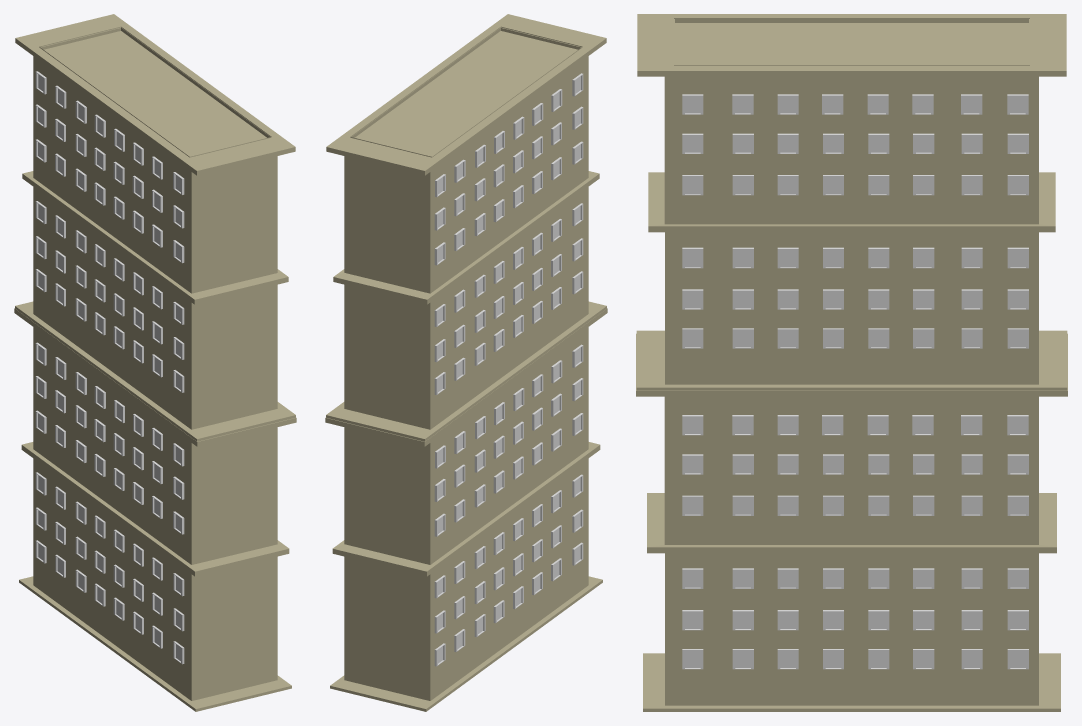
File: Apartment Seperated.fbx
The picture shows the model from 3 angles, left to right: view 1: azimuth 30°, elevation 25°; view 2: azimuth 150°, elevation 25°; view 3: azimuth 270°, elevation 25°; orthographic projection. The views are drawn at different scales.
Visible parts, largest first — view 1: Cube 2, Cube, Ledges 2, Ledges, Window Set 7, Window Set 3, Window Set 6, Window Set 4; view 2: Cube 2, Cube, Ledges 2, Ledges, Window Set 3, Window Set 7, Window Set 4, Window Set 6; view 3: Cube 2, Cube, Ledges 2, Ledges, Window Set 5, Window Set 2, Window Set 8, Window Set 1.
Boxes of the visible parts, x1,y1,x2,y2 form: Cube 2: (33,26,277,429); Cube: (33,327,277,700); Ledges 2: (15,14,295,441); Ledges: (14,308,296,711); Window Set 7: (35,71,184,263); Window Set 3: (35,342,184,534); Window Set 6: (35,201,184,392); Window Set 4: (35,472,184,664); Cube 2: (344,26,588,429); Cube: (344,327,588,700); Ledges 2: (326,14,606,441); Ledges: (325,308,607,711); Window Set 3: (434,344,583,536); Window Set 7: (434,73,583,265); Window Set 4: (434,474,583,666); Window Set 6: (434,203,583,395); Cube 2: (664,18,1038,384); Cube: (664,396,1038,705); Ledges 2: (636,14,1067,390); Ledges: (636,333,1067,711); Window Set 5: (682,247,1028,348); Window Set 2: (682,415,1028,515); Window Set 8: (682,94,1028,195); Window Set 1: (682,568,1028,669).
Bounding box in the file's own units: 71 × 226 × 371.
